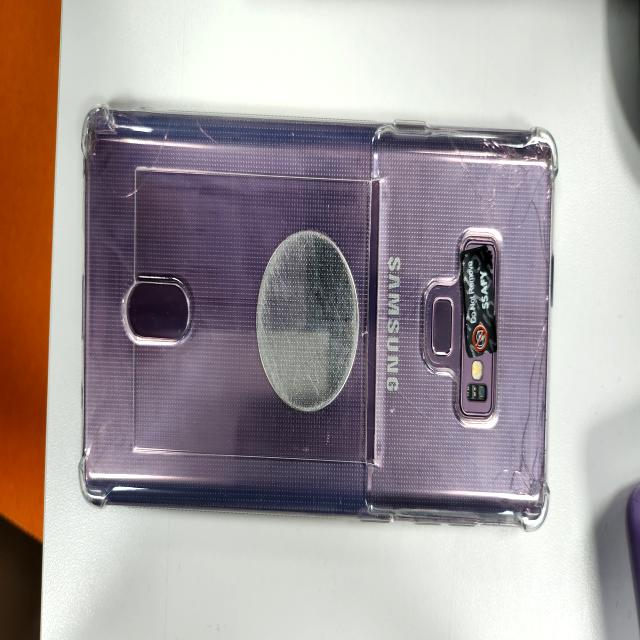phone: (80, 110, 556, 532)
removed_sticker: (462, 251, 498, 358)
